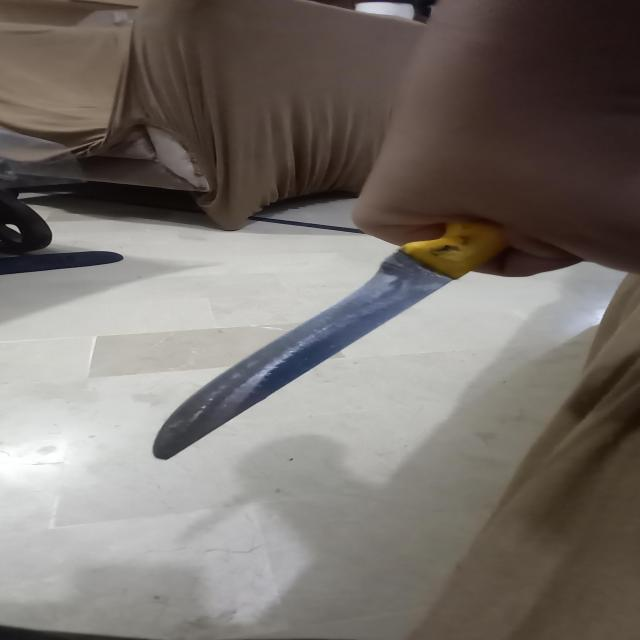faca: (152, 217, 508, 458)
